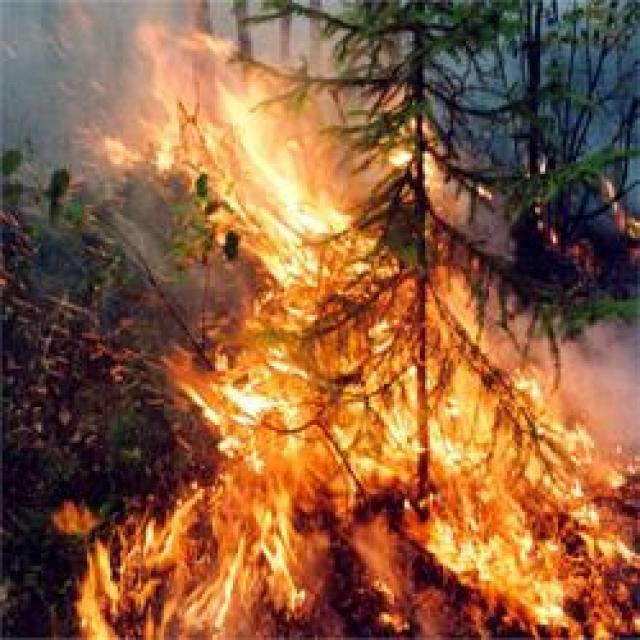fire: (176, 498, 302, 640), (248, 156, 348, 282), (436, 408, 507, 576), (221, 382, 307, 508), (493, 524, 582, 640)
